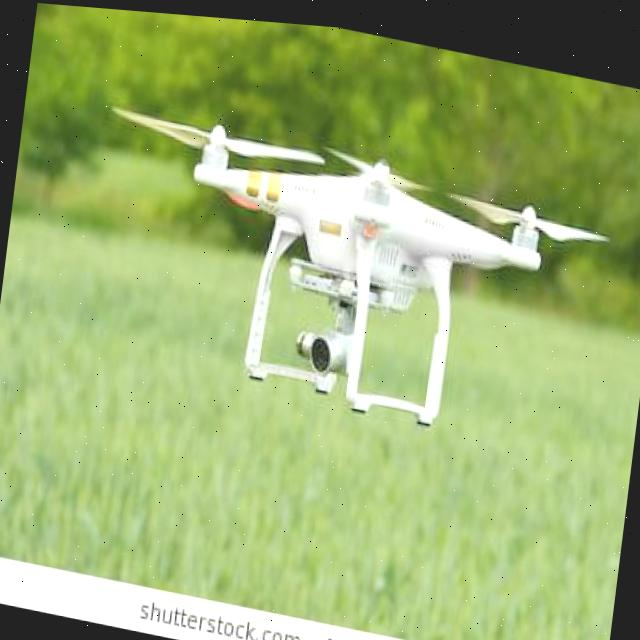drone: (75, 85, 630, 459)
